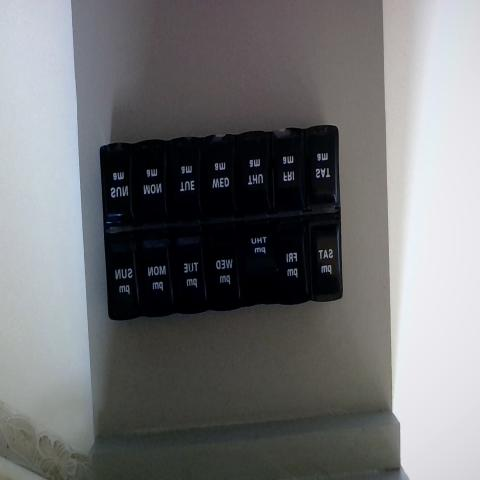FRI-am: (274, 133, 303, 210)
FRI-pm: (278, 215, 312, 302)
MON-am: (138, 140, 172, 221)
MON-pm: (146, 232, 182, 316)
Open: (247, 225, 279, 302)
PillBox: (93, 101, 362, 371)
SAT-am: (305, 127, 340, 209)
SAT-pm: (314, 221, 346, 298)
SUN-am: (104, 140, 136, 226)
SUN-pm: (110, 233, 144, 316)
THU-am: (240, 130, 272, 212)
TUE-am: (173, 138, 204, 218)
TUE-pm: (180, 231, 212, 311)
WED-am: (205, 135, 237, 218)
WED-pm: (209, 229, 244, 308)
